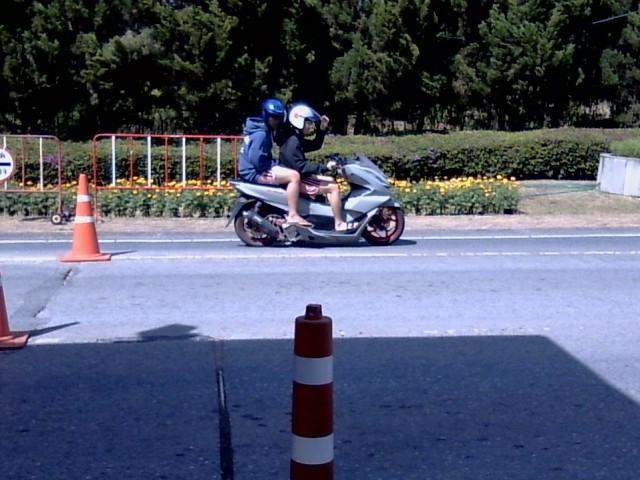helmet: (289, 103, 321, 134), (258, 97, 287, 131)
motor: (227, 154, 403, 245)
person: (278, 103, 355, 230), (239, 100, 311, 224)
